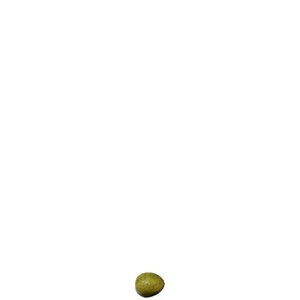goiaba: (132, 269, 167, 298)
